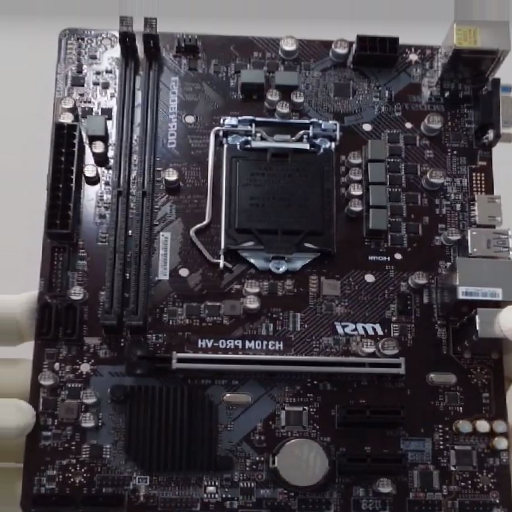CPU: (215, 116, 339, 270)
GPU: (125, 348, 407, 378)
MOTHERBOARD: (25, 28, 510, 510)
RAM: (98, 15, 161, 328)
